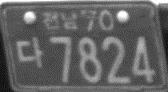0: (98, 9, 114, 32)
2: (101, 35, 131, 85)
4: (131, 35, 156, 87)
7: (49, 35, 73, 83), (81, 9, 97, 32)
8: (76, 36, 101, 83)
다: (14, 35, 46, 71)
전남_O: (40, 10, 80, 31)
